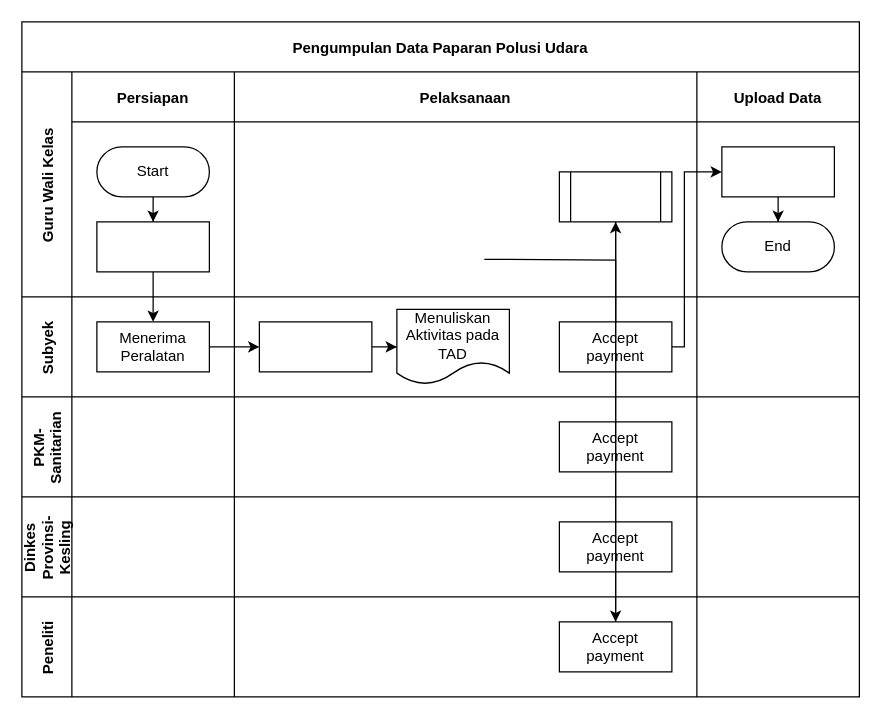
Some shapes in this 881 by 719 pixel diagram are drawn without their labels. The centre of each missing label's shape, as x and y in pixels:
"Make latte" belongs at [615,196].
"Membawa Peralatan" belongs at [315,346].
"Mengirim Data" belongs at [777,171].
"Menyiapkan Peralatan" belongs at [152,246].
